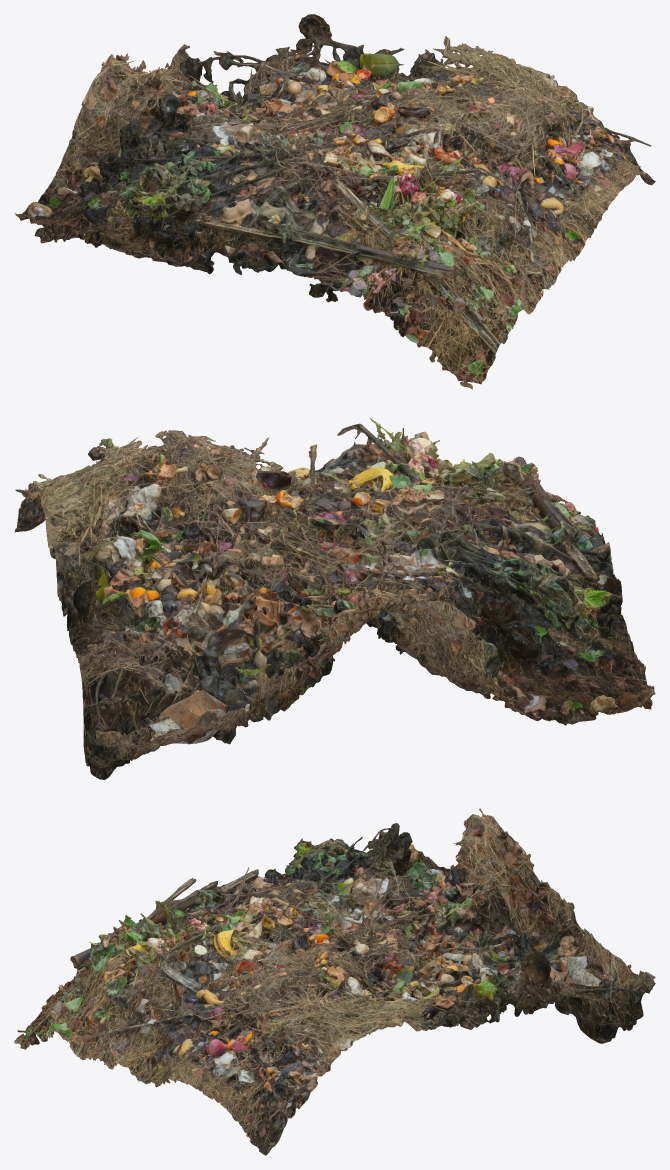
Rendered from sf-hay-fruit-composter-e99190.glb.
The picture shows the model from 3 angles, top to bottom: view 1: azimuth 30°, elevation 25°; view 2: azimuth 150°, elevation 25°; view 3: azimuth 270°, elevation 25°; orthographic projection. The views are drawn at different scales.
Parts seen in each view (by area): view 1: Model_material0_0, Model_material1_0; view 2: Model_material1_0, Model_material0_0; view 3: Model_material1_0, Model_material0_0.
Part boxes in pixels (box(x1,y1,x2,y2)): Model_material0_0: box(14, 14, 655, 389); Model_material1_0: box(16, 22, 651, 383); Model_material1_0: box(15, 418, 654, 779); Model_material0_0: box(14, 421, 655, 772); Model_material1_0: box(17, 808, 655, 1146); Model_material0_0: box(14, 814, 655, 1155).
Bounding box in the file's own units: 2.46 × 0.7467 × 2.47.
2 materials, 2 textured.
